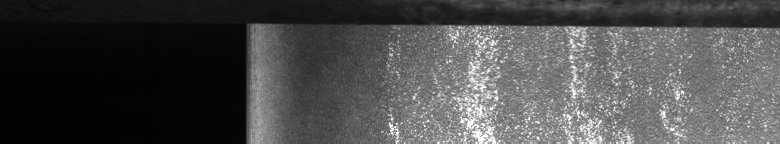kb: (361, 4, 776, 136)
